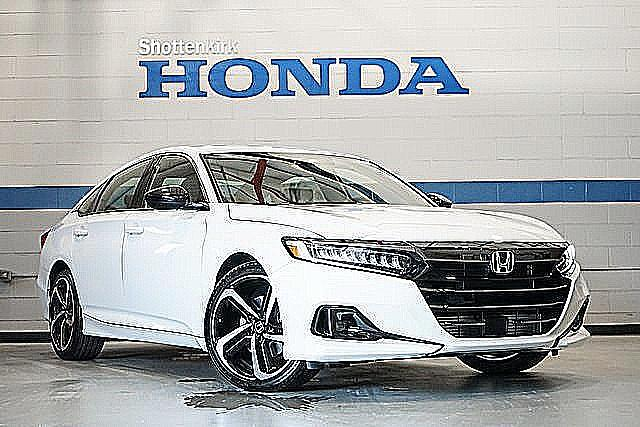Car hood: (225, 197, 573, 254)
Driver-s door - -F-R-: (117, 152, 215, 334)
Fender - -F-R-: (198, 198, 320, 302)
Fender - -R-R-: (37, 208, 79, 290)
Front bumper: (263, 259, 595, 366)
Headlight - -L-: (550, 236, 581, 273)
Headlight - -R-: (281, 233, 430, 283)
Passenger-s door - -R-R-: (67, 143, 157, 335)
Rear bumper: (31, 245, 66, 334)
Rear light - -R-: (32, 223, 55, 261)
Side bumper - -R-: (75, 304, 206, 356)
Side mirror - -L-: (423, 189, 459, 211)
Side mirror - -R-: (144, 185, 195, 214)
